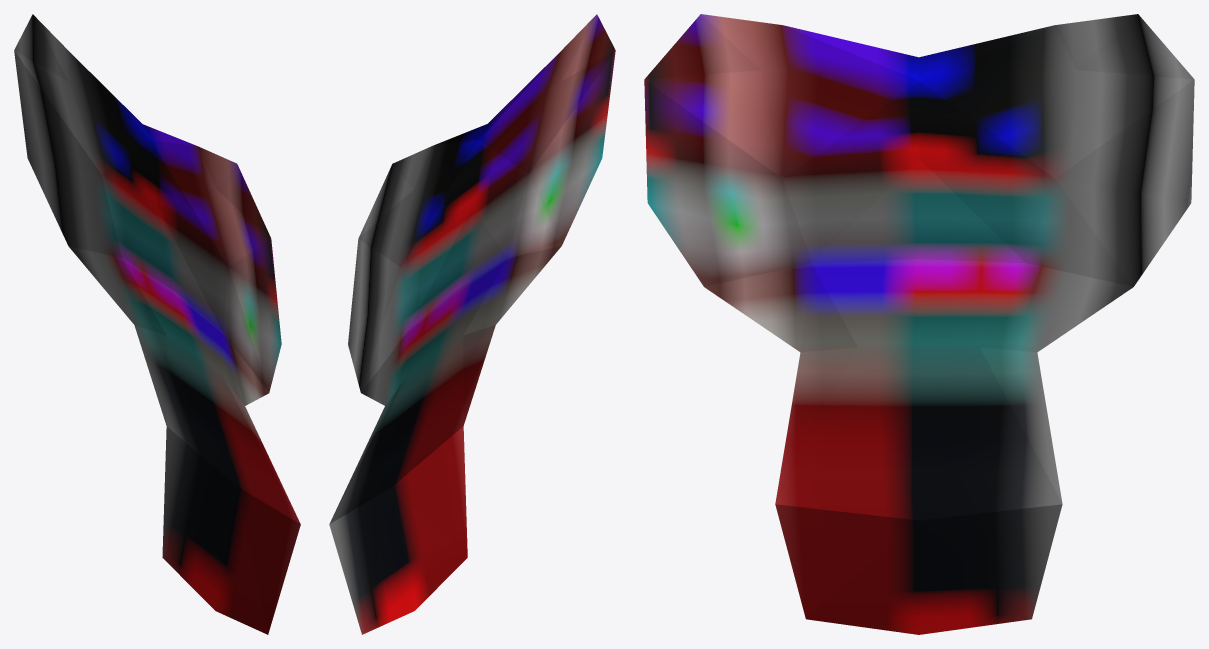
File: GLOWY EYES GREEN.fbx
3 views of the same model, side by side, from view 1: azimuth 30°, elevation 25°; view 2: azimuth 150°, elevation 25°; view 3: azimuth 270°, elevation 25° (orthographic). The views are drawn at different scales.
Visible parts, largest first — view 1: GLOWY_EYES_GREEN; view 2: GLOWY_EYES_GREEN; view 3: GLOWY_EYES_GREEN.
Boxes of the visible parts, x1,y1,x2,y2 form: GLOWY_EYES_GREEN: (14, 14, 300, 634); GLOWY_EYES_GREEN: (329, 14, 615, 634); GLOWY_EYES_GREEN: (644, 14, 1194, 634).
Bounding box in the file's own units: 4.02 × 20.13 × 17.33.
